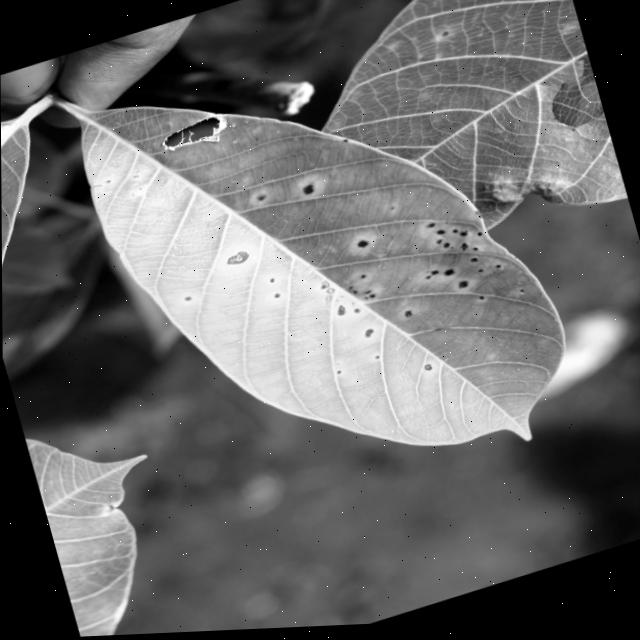Colletotrichum: (224, 252, 248, 269), (301, 188, 313, 199), (455, 284, 468, 294), (355, 242, 367, 252), (442, 272, 453, 281), (402, 313, 412, 322), (422, 367, 431, 375), (325, 290, 334, 298)
